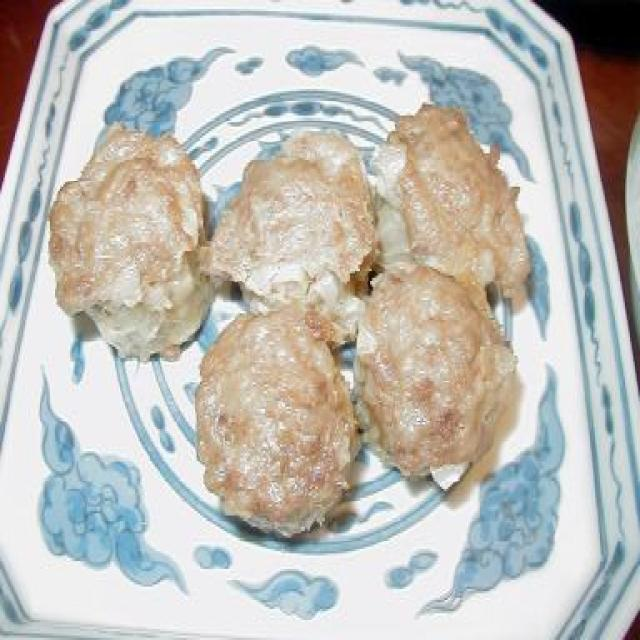带馅早点: (65, 175, 640, 640)
